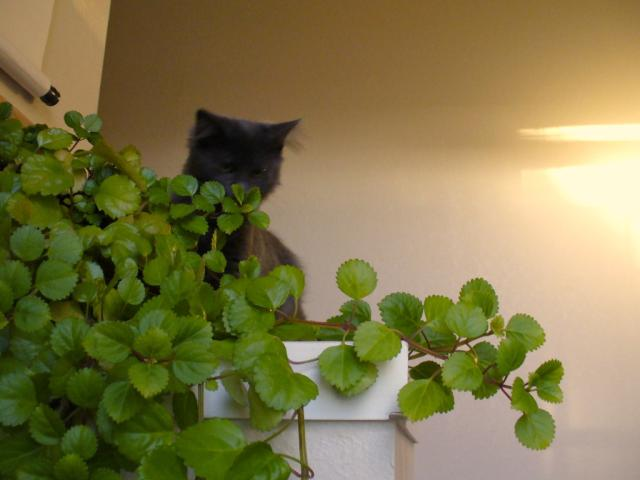Cat: (158, 109, 304, 325)
